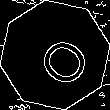O_NW: (22, 23, 88, 87)
